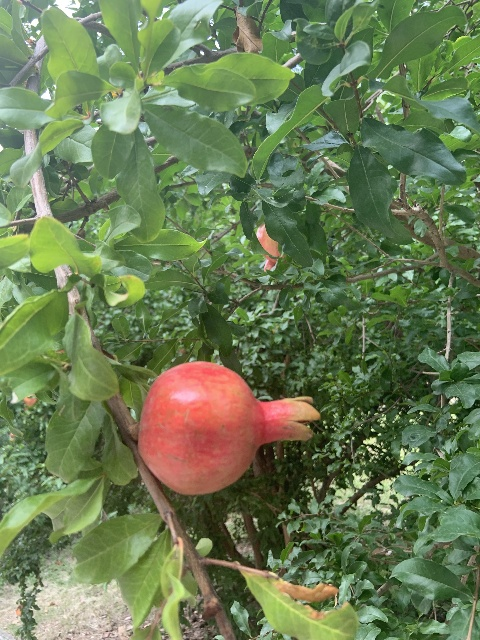ripe: (138, 360, 319, 495), (256, 223, 283, 272)
